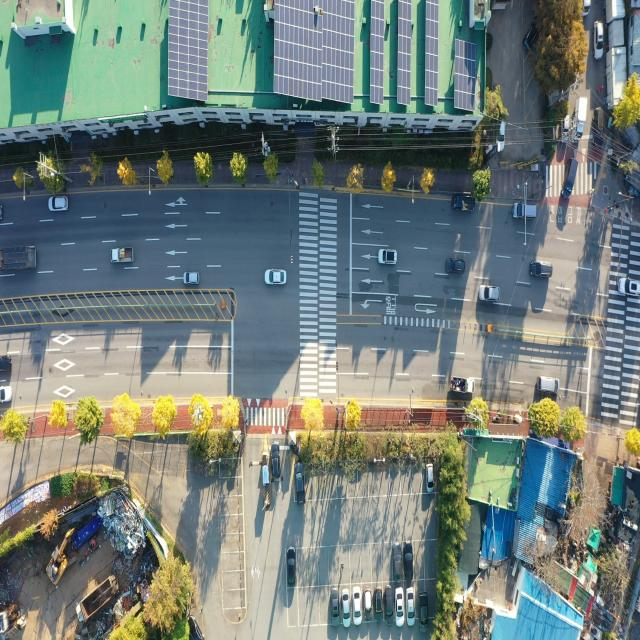car: (562, 160, 578, 203), (524, 23, 538, 53), (530, 262, 554, 279), (512, 203, 536, 220), (294, 464, 304, 504), (594, 22, 604, 61), (479, 284, 500, 302), (330, 589, 340, 626), (266, 270, 287, 287), (537, 377, 558, 394), (496, 118, 506, 153), (287, 550, 296, 588), (393, 544, 402, 582), (406, 544, 415, 581), (384, 587, 394, 620), (592, 109, 601, 145), (50, 197, 70, 213), (620, 278, 640, 294), (272, 444, 281, 479), (407, 588, 415, 626), (420, 594, 428, 632), (380, 249, 398, 265), (353, 588, 361, 624), (395, 588, 403, 623), (447, 260, 465, 275), (364, 589, 372, 621), (343, 589, 350, 624), (562, 116, 571, 142), (376, 588, 383, 619), (184, 272, 199, 286), (0, 387, 13, 402), (0, 356, 12, 371), (427, 464, 433, 492)
medium_truck: (74, 575, 122, 627), (0, 243, 36, 275)
small_truck: (574, 97, 586, 140), (449, 375, 474, 394), (452, 196, 476, 213), (110, 247, 134, 263), (584, 0, 592, 16)
